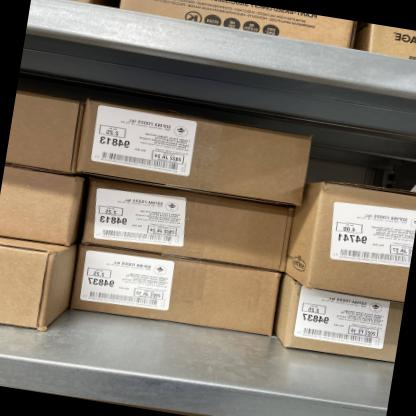Empty_shelf: (82, 84, 330, 214), (67, 240, 288, 346), (72, 172, 300, 274)
